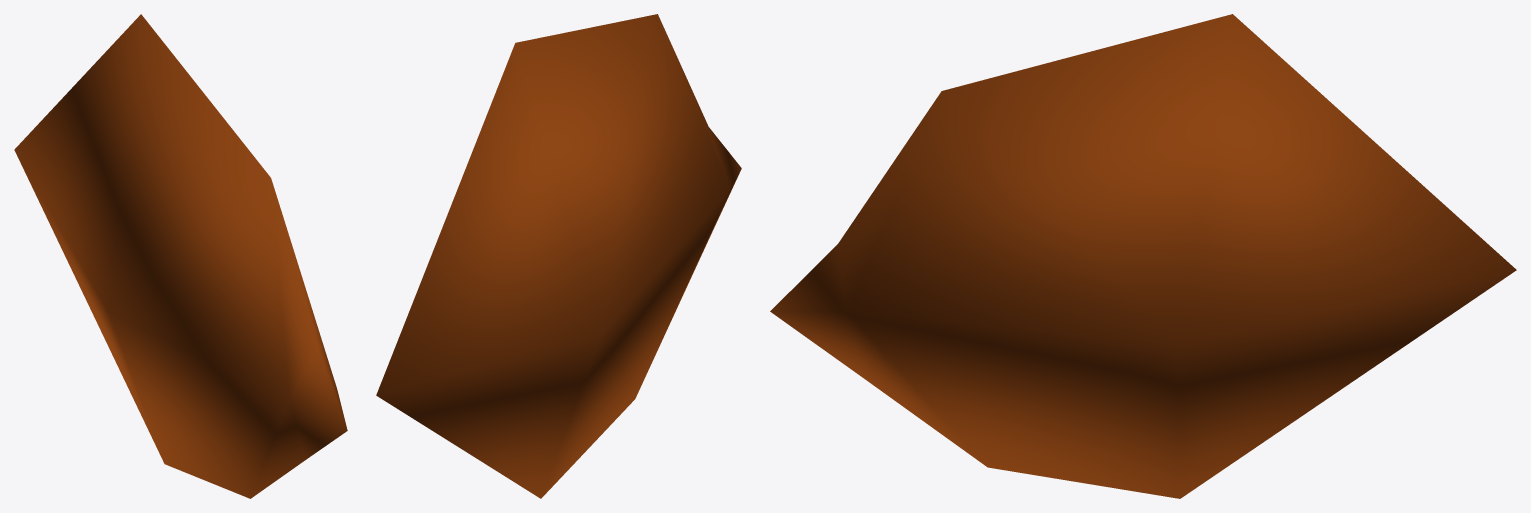
Rendered from fish-body-02.obj.
3 renders of one model, left to right at view 1: azimuth 30°, elevation 25°; view 2: azimuth 150°, elevation 25°; view 3: azimuth 270°, elevation 25°, orthographic. The views are drawn at different scales.
Visible parts, largest first — view 1: body002; view 2: body002; view 3: body002.
Boxes of the visible parts, <box> form: body002: <box>14,14,347,498</box>; body002: <box>376,14,741,498</box>; body002: <box>770,14,1516,498</box>.
Size of the model in its own units: 2.34 by 8.61 by 12.01.
